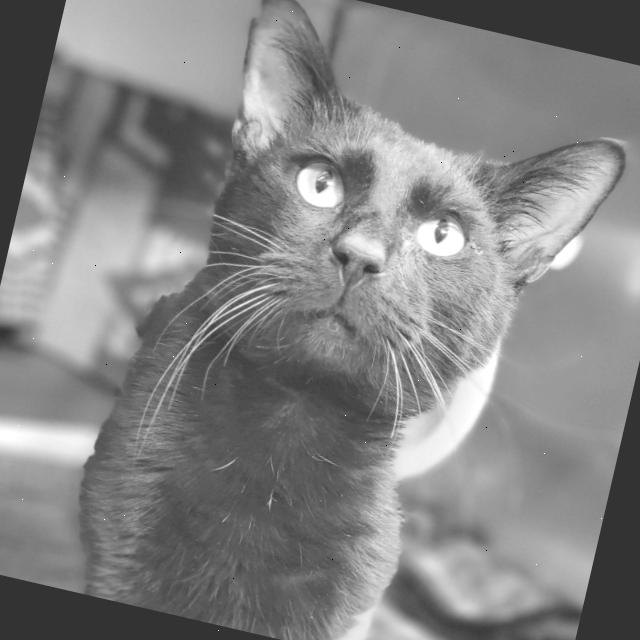bombay_cat: (90, 0, 640, 521)
